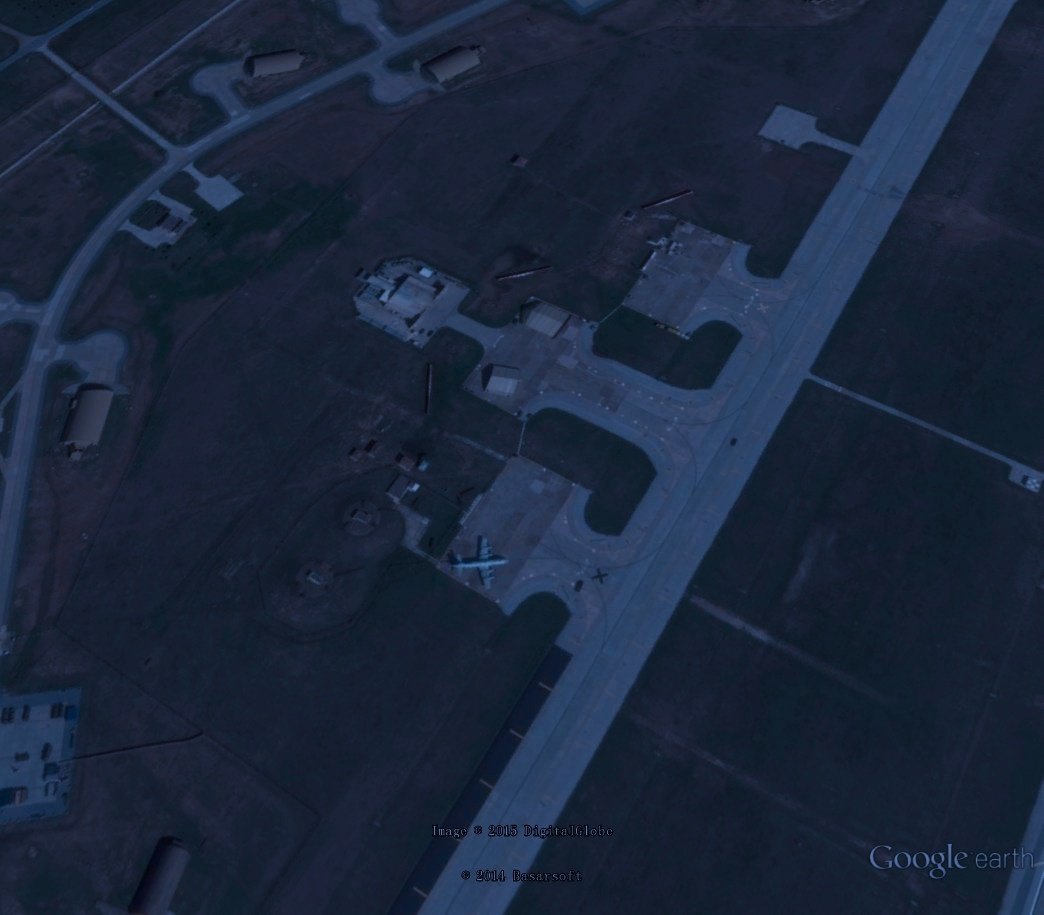aircraft: (444, 533, 515, 595), (591, 567, 612, 590)
